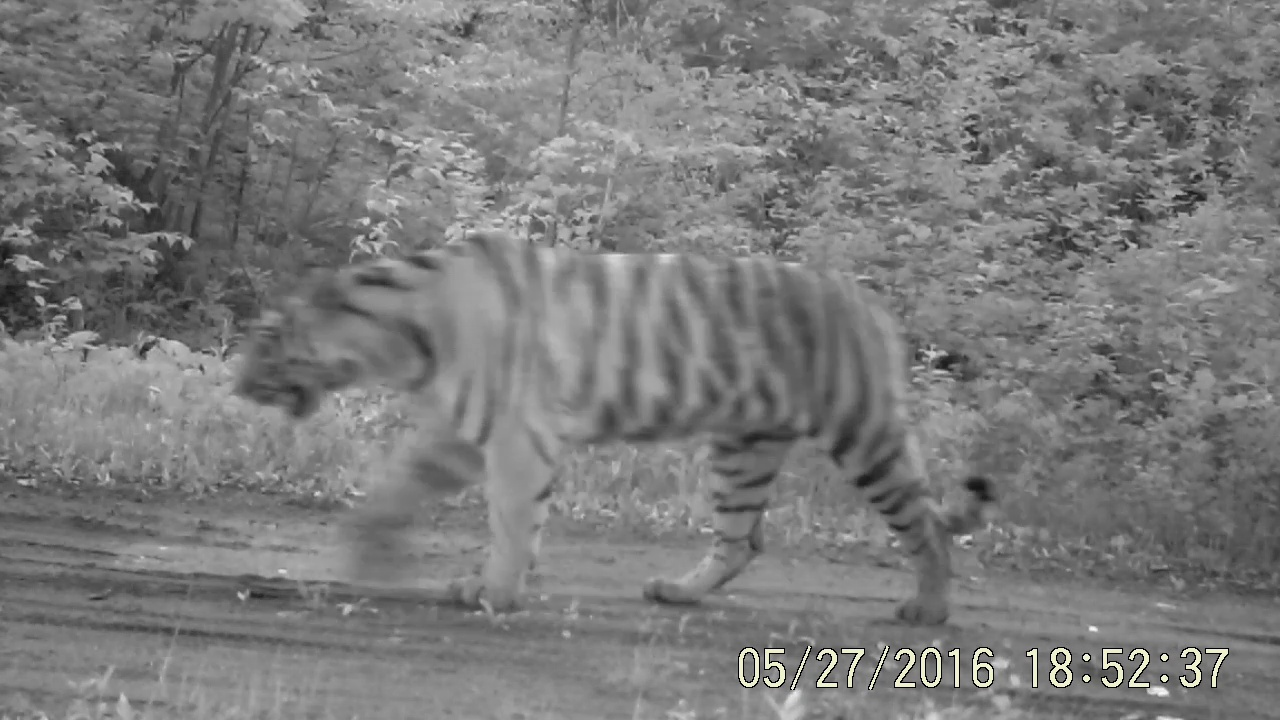Tiger: (162, 176, 1117, 636)
